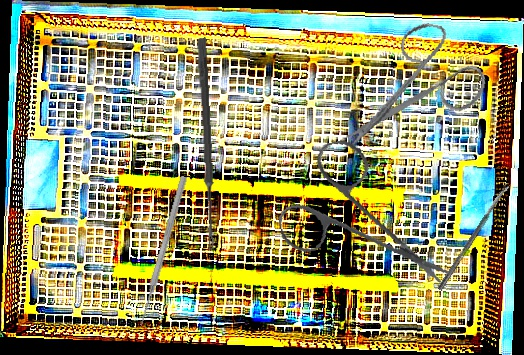Iris Scissors: (266, 125, 450, 313), (342, 10, 496, 174)
Pusher: (136, 175, 189, 327)
Surgical Spoon: (437, 182, 511, 292), (195, 37, 218, 251)
